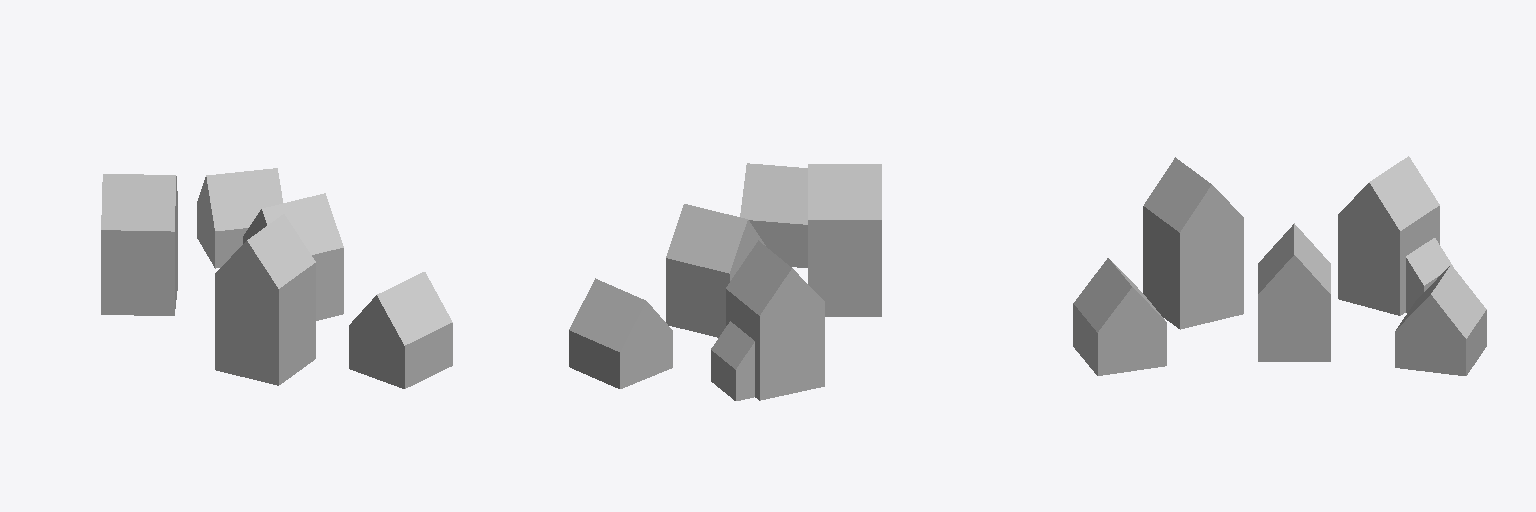
Rendered from hzb-test-scene-occlusion.obj.
3 views of the same model, side by side, from view 1: azimuth 30°, elevation 25°; view 2: azimuth 150°, elevation 25°; view 3: azimuth 270°, elevation 25° (orthographic).
Parts seen in each view (by area): view 1: Cube.003, Cube.004, Cube.002, Cube.001, Cube; view 2: Cube.003, Cube.004, Cube, Cube.001, Cube.002, Cube.005; view 3: Cube.003, Cube.004, Cube, Cube.002, Cube.001, Cube.005.
Boxes of the visible parts, <box> form: Cube.003: <box>215,214,315,385</box>; Cube.004: <box>101,174,177,315</box>; Cube.002: <box>349,272,452,388</box>; Cube.001: <box>197,168,282,268</box>; Cube: <box>243,193,343,320</box>; Cube.003: <box>808,164,881,316</box>; Cube.004: <box>726,240,824,400</box>; Cube: <box>666,204,765,337</box>; Cube.001: <box>569,278,672,388</box>; Cube.002: <box>740,163,807,267</box>; Cube.005: <box>711,321,754,400</box>; Cube.003: <box>1143,157,1243,329</box>; Cube.004: <box>1338,156,1439,315</box>; Cube: <box>1258,223,1330,361</box>; Cube.002: <box>1073,258,1166,375</box>; Cube.001: <box>1395,265,1486,375</box>; Cube.005: <box>1406,238,1452,312</box>.
Bounding box in the file's own units: 6.64 × 4.12 × 11.2.